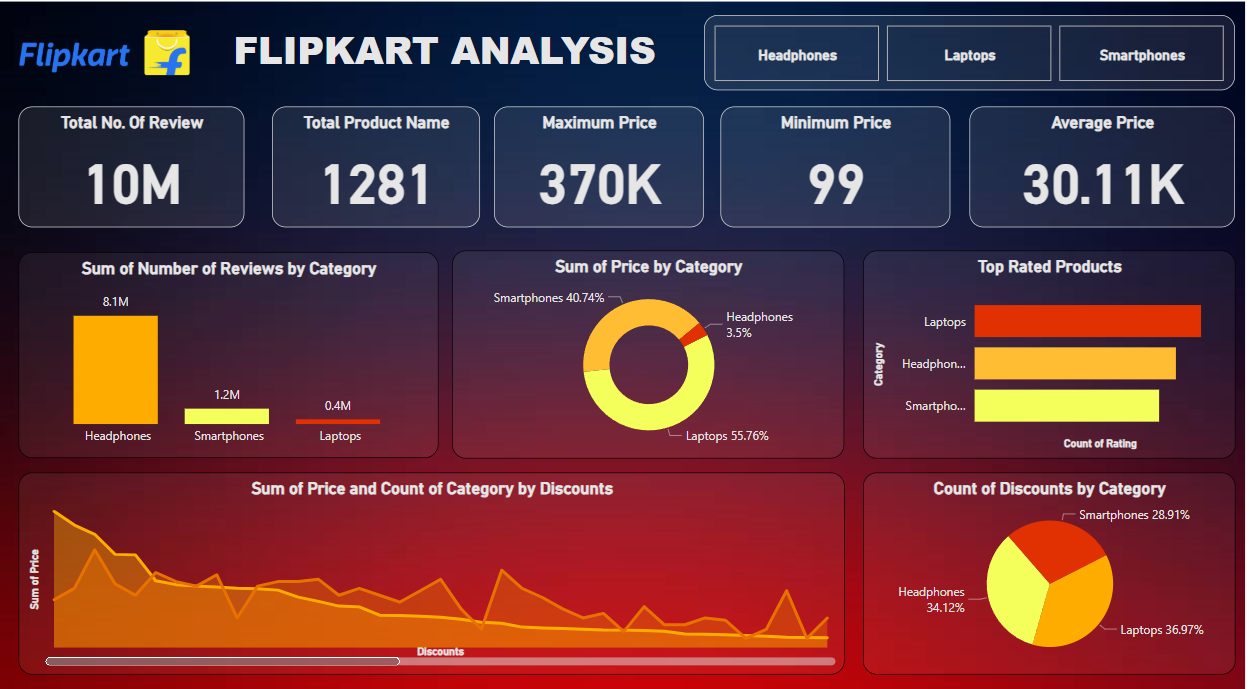

This screenshot's page, from the dashboard's own definition file:
{"tool":"powerbi","page":{"name":"DASHBOARD","canvas":[1280,720],"ordinal":0},"visuals":[{"type":"image","box":[0,0,1279.4,720],"z":0},{"type":"areaChart","fields":{"Y":["Sum(modified_famazon.Price)"],"Category":["modified_famazon.Discounts"],"Y2":["CountNonNull(modified_famazon.Category)"]},"box":[32,486,834,204],"z":1000},{"type":"clusteredBarChart","title":"Top Rated Products","fields":{"Category":["modified_famazon.Category"],"Y":["Count(modified_famazon.Rating)"]},"box":[884,262,376,210],"z":2000},{"type":"columnChart","fields":{"Category":["modified_famazon.Category"],"Y":["Sum(modified_famazon.Number of Reviews)"]},"box":[32,264,424,208],"z":3000},{"type":"pieChart","fields":{"Category":["modified_famazon.Category"],"Y":["Count(modified_famazon.Discounts)"]},"box":[884,486,376,204],"z":4000},{"type":"donutChart","fields":{"Category":["modified_famazon.Category"],"Y":["Sum(modified_famazon.Price)"]},"box":[470,262,396,210],"z":4001},{"type":"textbox","box":[243.9,27.3,465.2,72.7],"z":4002},{"type":"image","box":[28,24,182,76],"z":4003},{"type":"advancedSlicerVisual","fields":{"Values":["modified_famazon.Category"]},"box":[724,24,536,76],"z":4004},{"type":"card","title":"Total No. Of Review","fields":{"Values":["Sum(modified_famazon.Number of Reviews)"]},"box":[32,116,228,122],"z":4006},{"type":"card","title":"Total Product Name","fields":{"Values":["CountNonNull(modified_famazon.Product Name)"]},"box":[288,116,210,122],"z":4007},{"type":"card","title":"Maximum Price","fields":{"Values":["Max(modified_famazon.Price)"]},"box":[512,116,212,122],"z":4008},{"type":"card","title":"Minimum Price","fields":{"Values":["Min(modified_famazon.Price)"]},"box":[740,116,232,122],"z":4009},{"type":"card","title":"Average Price","fields":{"Values":["Avg(modified_famazon.Price)"]},"box":[992,116,268,122],"z":4010}]}

Visuals, with their boxes in screenshot pixels (x1, y1, x2, y2), scaled from the page's 1280x720 canvas onto the 1249x689 screenshot:
image: crop(0, 0, 1248, 688)
areaChart - Sum(modified_famazon.Price) x modified_famazon.Discounts: crop(31, 465, 845, 660)
"Top Rated Products" clusteredBarChart: crop(863, 251, 1229, 452)
columnChart - modified_famazon.Category x Sum(modified_famazon.Number of Reviews): crop(31, 253, 445, 452)
pieChart - modified_famazon.Category x Count(modified_famazon.Discounts): crop(863, 465, 1229, 660)
donutChart - modified_famazon.Category x Sum(modified_famazon.Price): crop(459, 251, 845, 452)
textbox: crop(238, 26, 692, 96)
image: crop(27, 23, 205, 96)
advancedSlicerVisual - modified_famazon.Category: crop(706, 23, 1229, 96)
"Total No. Of Review" card: crop(31, 111, 254, 228)
"Total Product Name" card: crop(281, 111, 486, 228)
"Maximum Price" card: crop(500, 111, 706, 228)
"Minimum Price" card: crop(722, 111, 948, 228)
"Average Price" card: crop(968, 111, 1229, 228)
